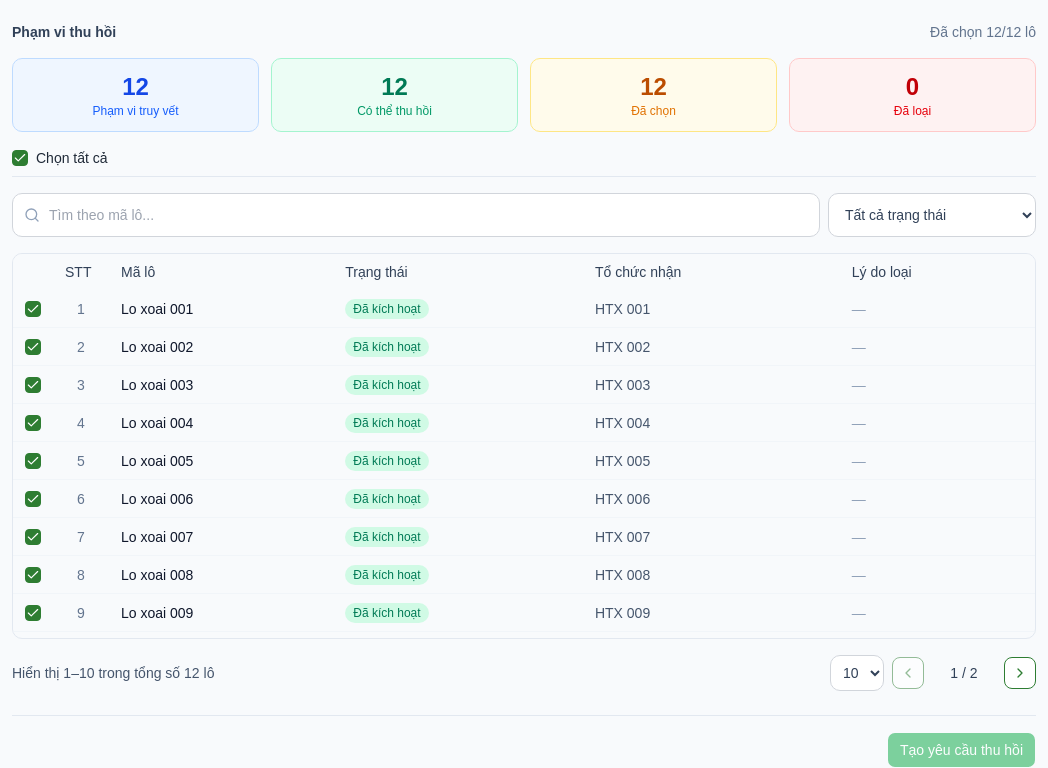
Test: BulkRecallRequestForm - bang Pham vi thu hoi › danh so STT dung theo trang (page 2 bat dau tu 11)
(page scrolled)
Expected: the text "Hiển thị 1–10 trong tổng số 12 lô" is shown, [12, 663, 214, 683]
Expected: the text "1" is shown, [53, 290, 109, 328]
Click the button named "Trang sau" at (1020, 673), box [1004, 657, 1036, 689]
(page scrolled)
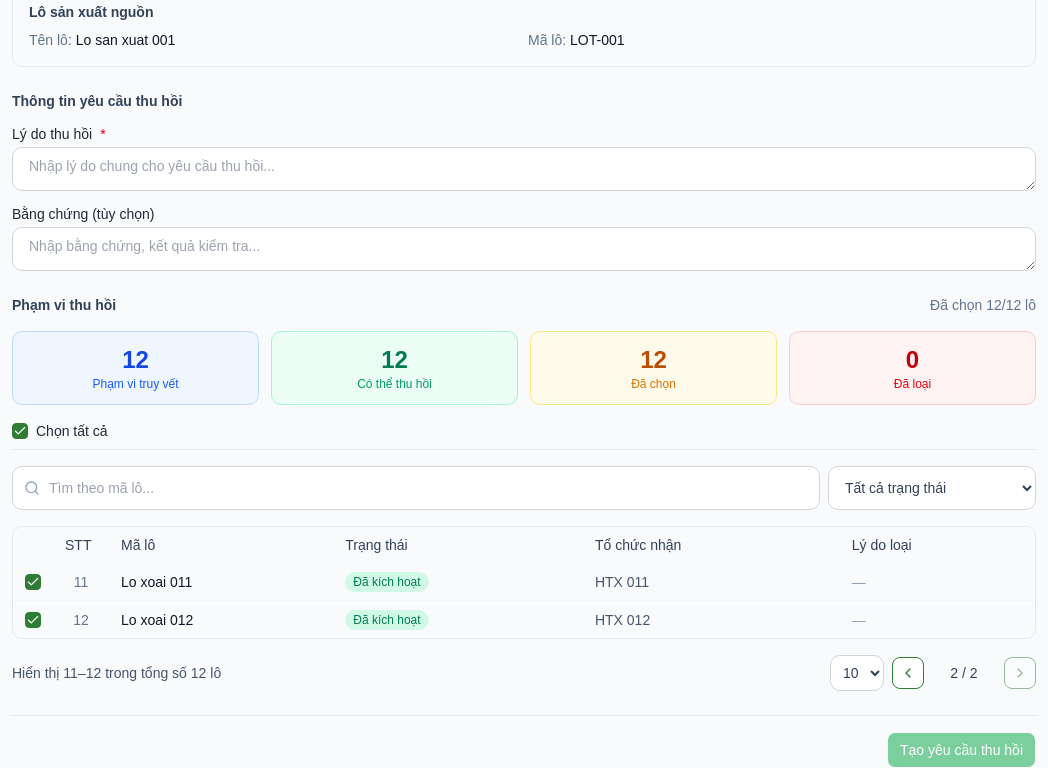
Now the text "Hiển thị 11–12 trong tổng số 12 lô" is shown, box [12, 663, 221, 683]
Now the text "11" is shown, box [53, 563, 109, 600]
Now the text "12" is shown, box [53, 600, 109, 638]
